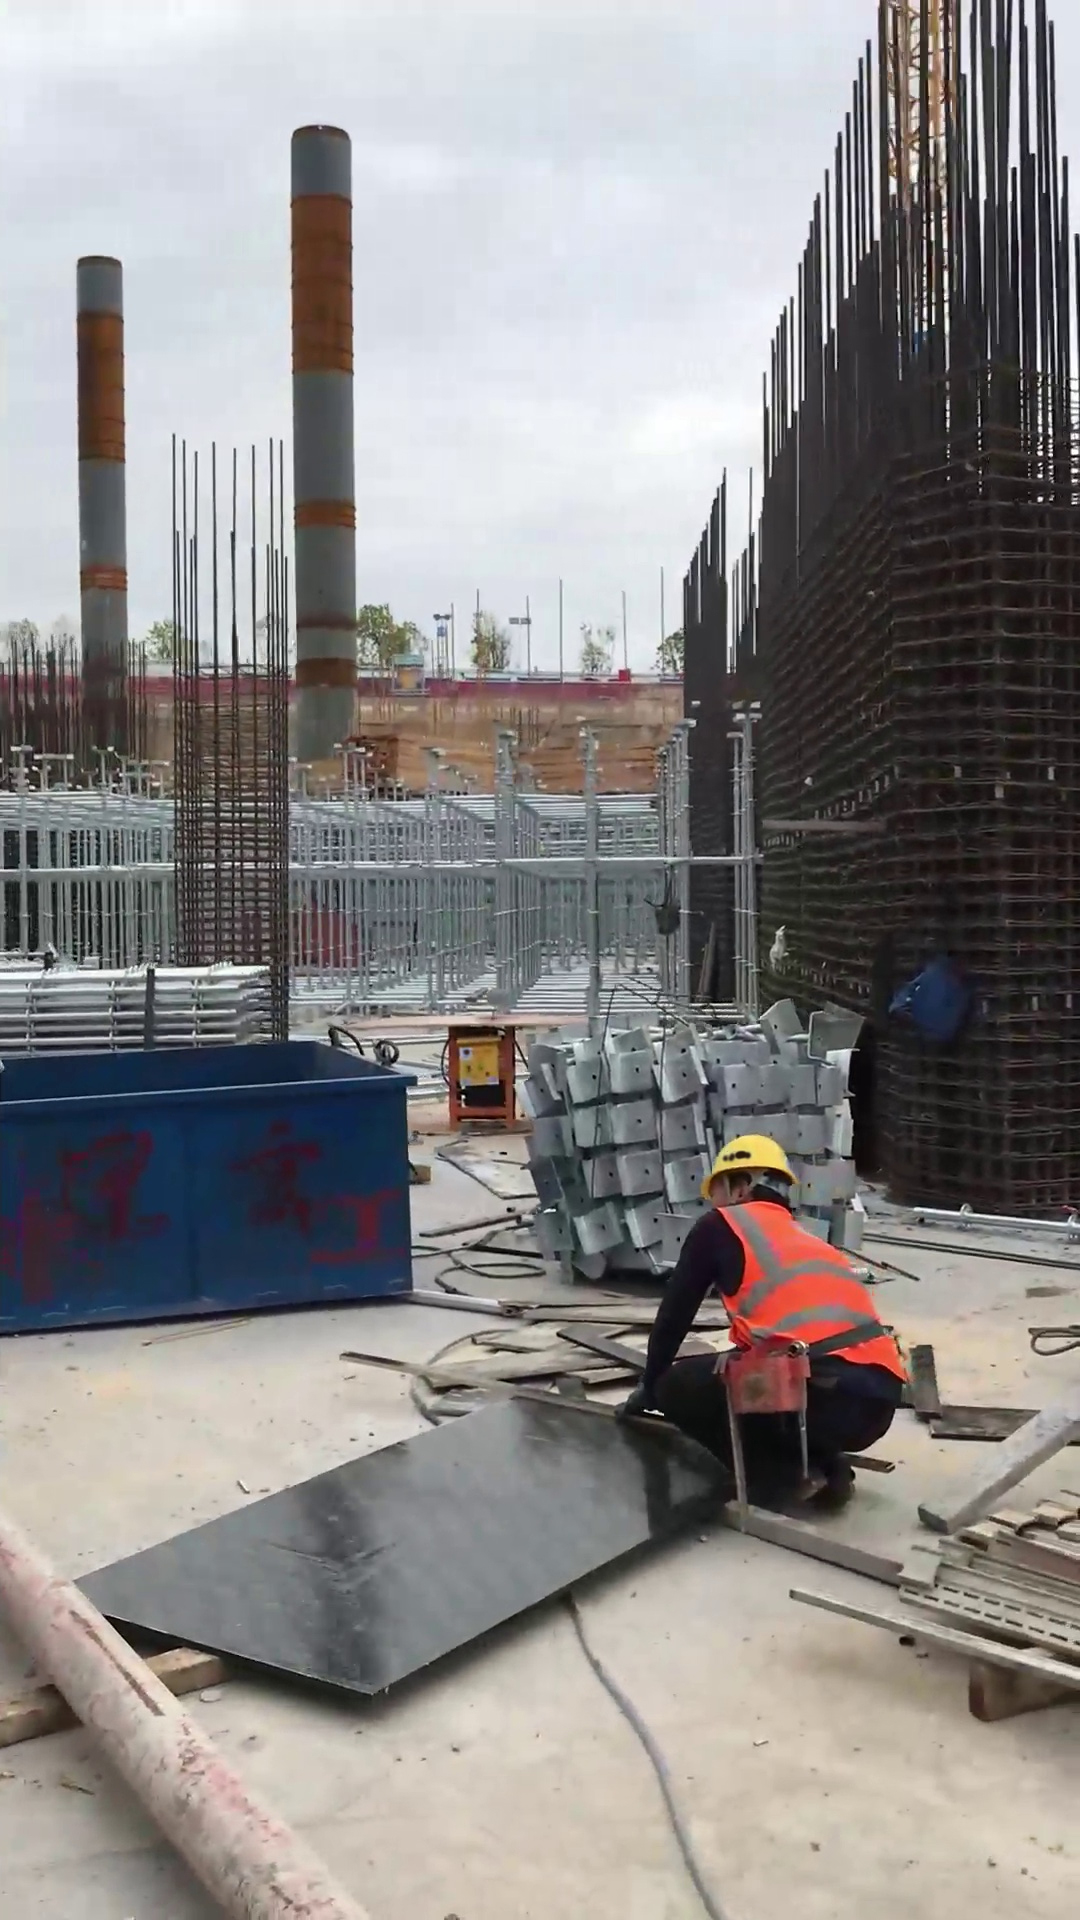cutter: (342, 1001, 623, 1129)
helmet: (697, 1123, 823, 1206)
hopper: (1, 1020, 426, 1342)
person: (618, 1113, 926, 1539)
scaffold: (1, 944, 290, 1077)
vest: (683, 1197, 918, 1401)
